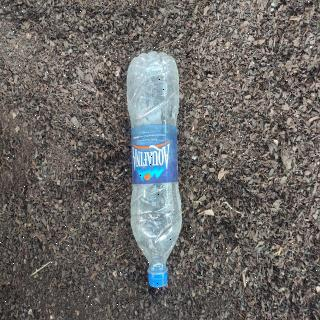Plastic-bottle: (125, 50, 185, 291)
